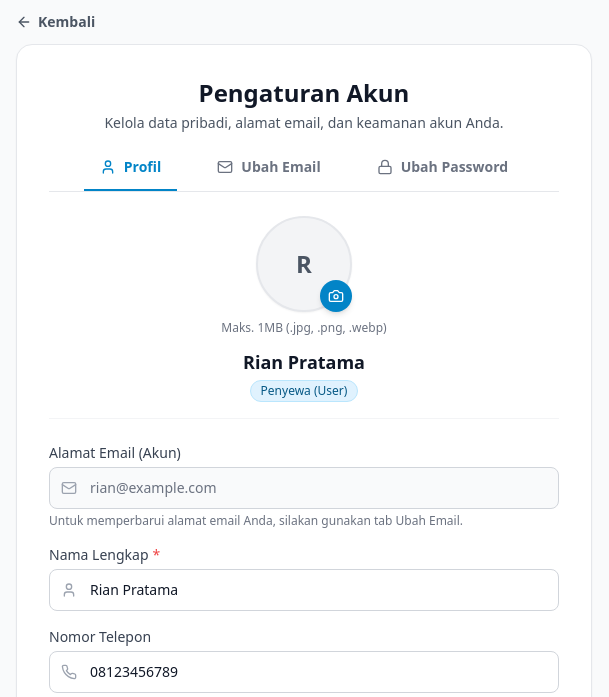
Test: ProfilePage Component › renders tab headers and switches between tabs
Expected: the button "Profil" is shown, [84,157,177,191]
Expected: the button "Ubah Password" is shown, [361,157,524,191]
Note: Switch to Ubah Email tab
Click the button "Ubah Email": (269,174) [201,157,337,191]
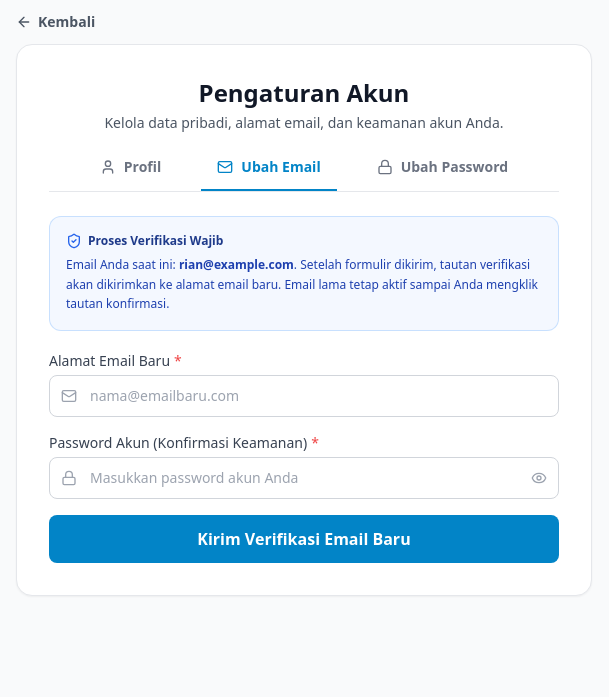
Expected: the field with placeholder "nama@emailbaru.com" is shown, [49,374,559,416]
Expected: the text "rian@example.com" is shown, [179,256,294,273]
Note: Switch to Ubah Password tab
Click the button "Ubah Password": (442,174) [361,157,524,191]
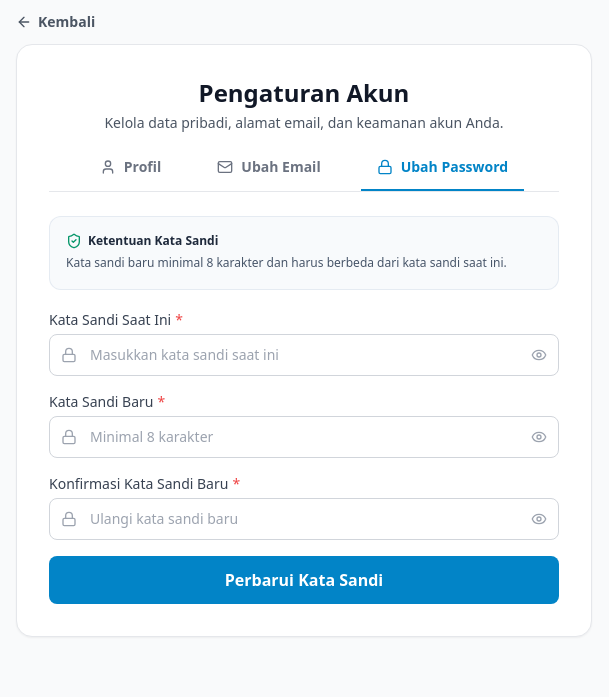
Expected: the password field with placeholder "Masukkan kata sandi saat ini" is shown, [49,334,559,376]
Expected: the password field with placeholder "Minimal 8 karakter" is shown, [49,416,559,458]
